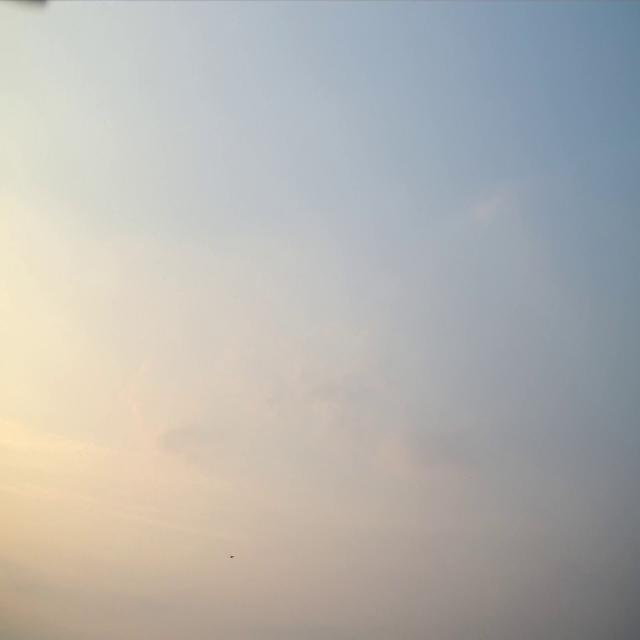UAV: (230, 554, 234, 558)
